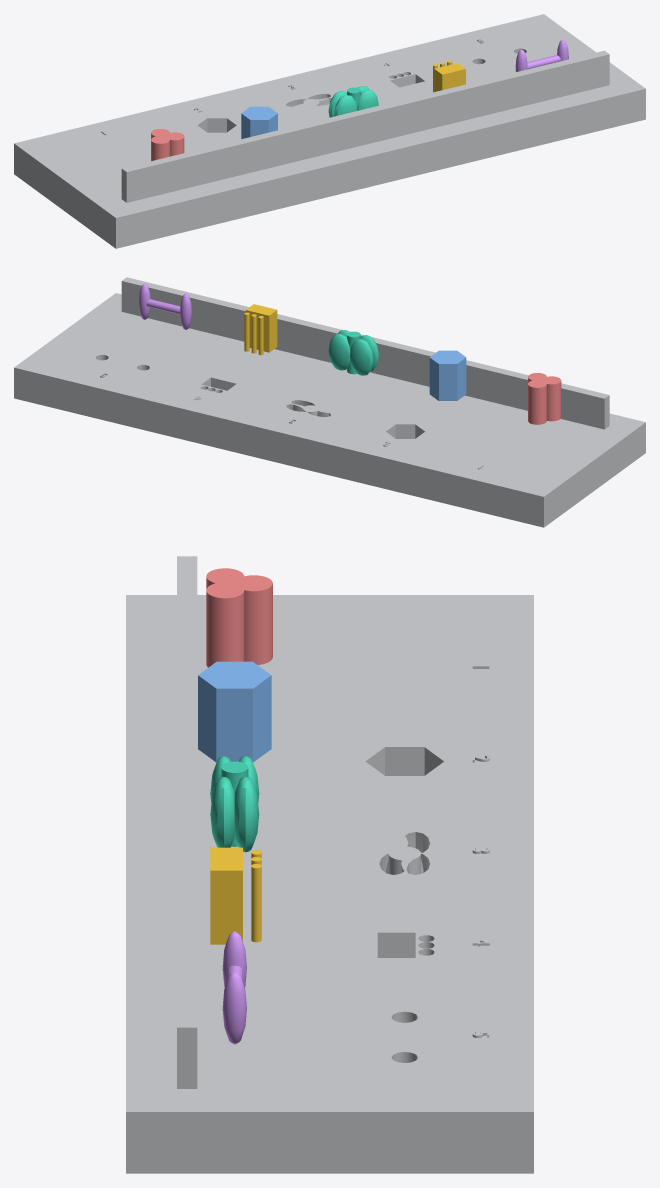
File: hiv_art_bench.glb
3 renders of one model, top to bottom at view 1: azimuth 30°, elevation 25°; view 2: azimuth 150°, elevation 25°; view 3: azimuth 270°, elevation 25°, orthographic. The views are drawn at different scales.
Visible parts, largest first — view 1: drug-bench, peg-rt-inhibitor, peg-capsid-inhibitor, peg-entry-inhibitor, peg-insti, peg-protease-inhibitor; view 2: drug-bench, peg-rt-inhibitor, peg-capsid-inhibitor, peg-entry-inhibitor, peg-insti, peg-protease-inhibitor; view 3: drug-bench, peg-capsid-inhibitor, peg-entry-inhibitor, peg-rt-inhibitor, peg-insti, peg-protease-inhibitor.
Boxes of the visible parts, <box> form: drug-bench: <box>14,14,645,248</box>; peg-rt-inhibitor: <box>328,86,378,117</box>; peg-capsid-inhibitor: <box>241,106,277,138</box>; peg-entry-inhibitor: <box>151,129,184,161</box>; peg-insti: <box>433,60,465,92</box>; peg-protease-inhibitor: <box>515,39,568,71</box>; drug-bench: <box>14,277,645,527</box>; peg-rt-inhibitor: <box>328,330,378,375</box>; peg-capsid-inhibitor: <box>429,350,466,400</box>; peg-entry-inhibitor: <box>528,373,561,424</box>; peg-insti: <box>244,304,277,355</box>; peg-protease-inhibitor: <box>138,283,191,329</box>; drug-bench: <box>126,556,533,1173</box>; peg-capsid-inhibitor: <box>198,661,271,762</box>; peg-entry-inhibitor: <box>206,568,272,667</box>; peg-rt-inhibitor: <box>210,756,259,852</box>; peg-insti: <box>210,847,261,944</box>; peg-protease-inhibitor: <box>222,931,246,1044</box>.
Bounding box in the file's own units: 0.9 × 0.12 × 0.3.
